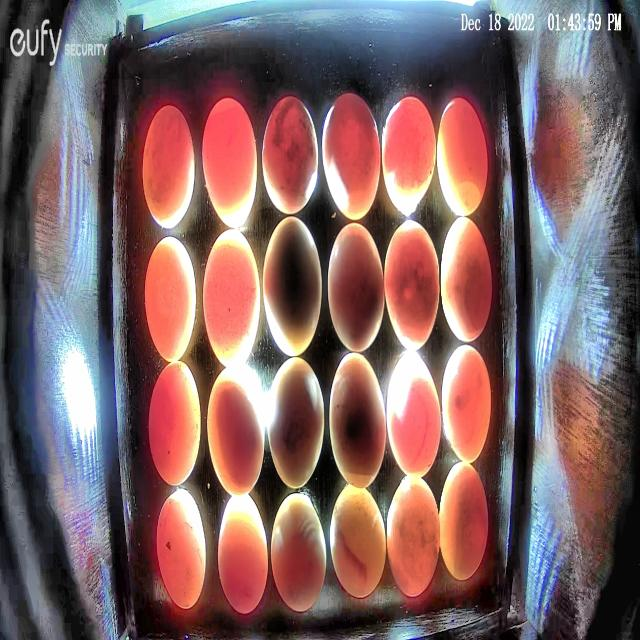DE: (262, 214, 322, 358), (203, 229, 261, 369), (329, 353, 388, 489), (266, 356, 325, 489), (327, 220, 385, 352), (384, 218, 441, 350), (322, 93, 381, 220), (206, 368, 265, 494), (202, 98, 257, 229), (270, 492, 327, 613), (387, 351, 441, 478), (330, 481, 387, 600), (441, 214, 493, 344), (141, 104, 195, 229), (148, 361, 202, 486), (262, 97, 318, 215), (381, 95, 436, 214), (388, 473, 440, 598), (145, 235, 196, 362), (436, 96, 488, 216), (218, 491, 268, 613), (157, 489, 206, 611), (442, 344, 492, 461), (440, 463, 488, 581)
